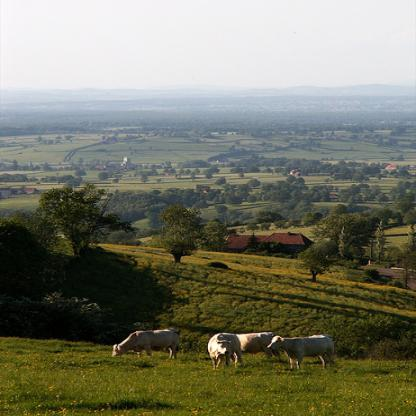cow: (269, 333, 335, 368), (110, 327, 182, 359), (212, 333, 279, 361), (207, 331, 244, 372)
